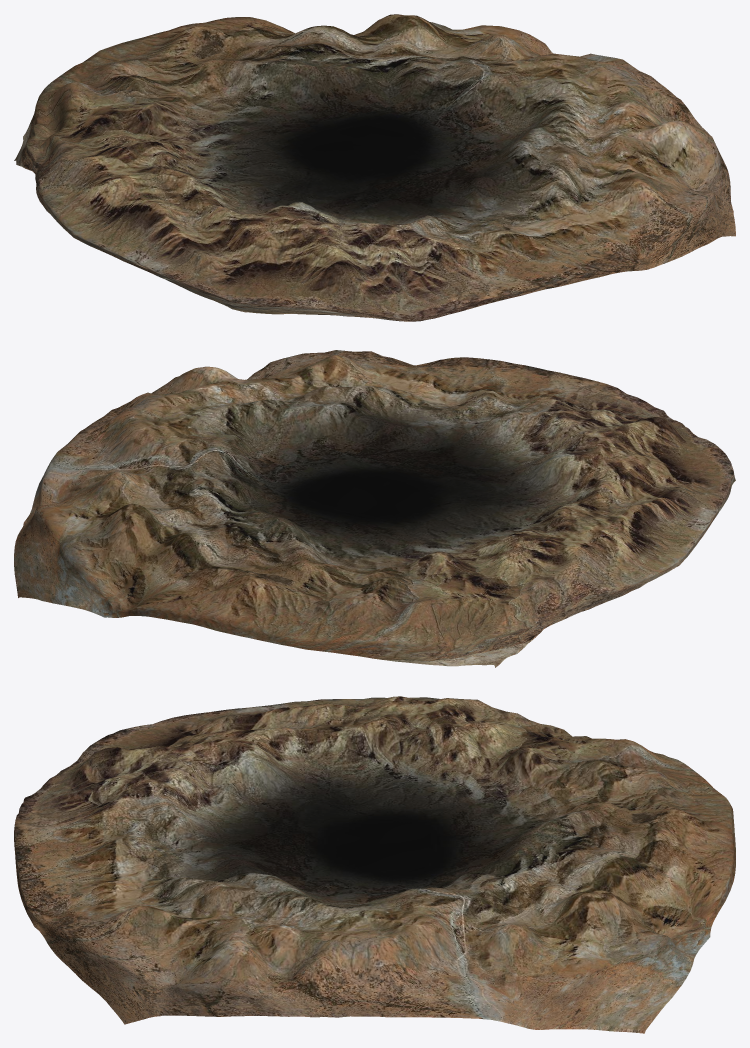
Rendered from lütfen ol ratok.glb.
3 views of the same model, one above another, from view 1: azimuth 30°, elevation 25°; view 2: azimuth 150°, elevation 25°; view 3: azimuth 270°, elevation 25° (orthographic). The views are drawn at different scales.
Visible parts, largest first — view 1: Object_2; view 2: Object_2; view 3: Object_2.
Boxes of the visible parts, x1=… form: Object_2: x1=14, y1=14, x2=735, y2=321; Object_2: x1=14, y1=350, x2=735, y2=667; Object_2: x1=14, y1=696, x2=735, y2=1033.
Bounding box in the file's own units: 151 × 23.38 × 153.
1 material, 1 textured.
